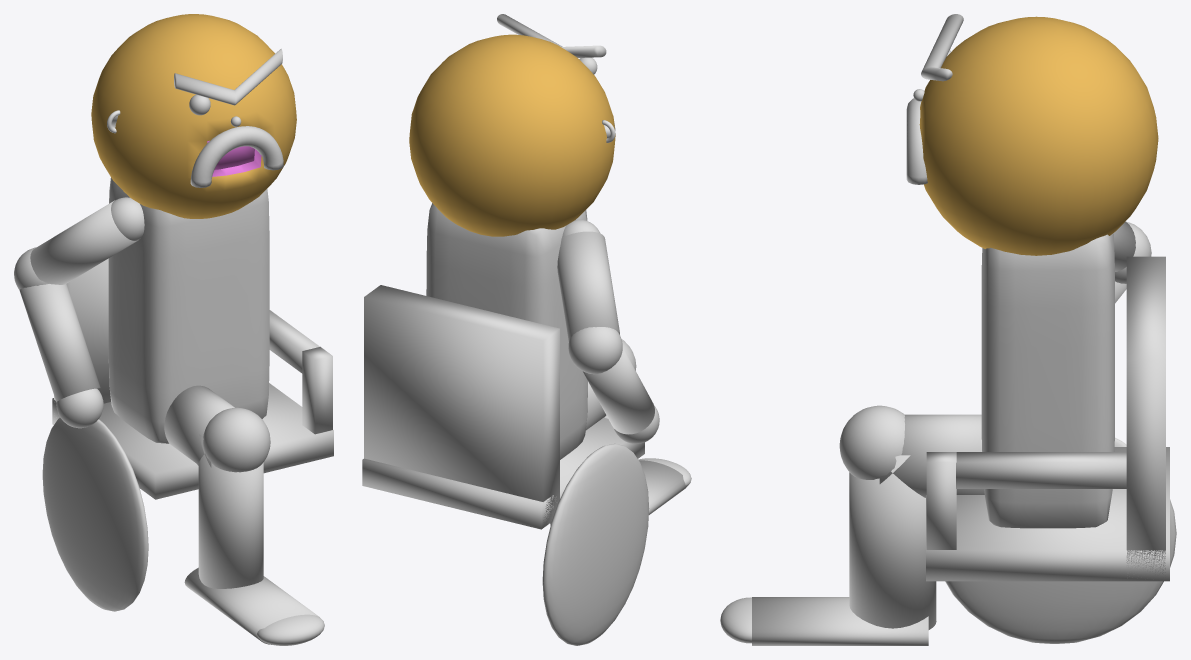
File: GrandpaBobinson.fbx
3 views of the same model, side by side, from view 1: azimuth 30°, elevation 25°; view 2: azimuth 150°, elevation 25°; view 3: azimuth 270°, elevation 25° (orthographic). The views are drawn at different scales.
Visible parts, largest first — view 1: Cube.001, Sphere, Sphere.008, Cylinder.009, Cube.002, Cylinder.007, Cylinder.006, Cylinder.010, Sphere.006, Cube.003, Cylinder.008, Torus (+7 smaller); view 2: Cube.003, Sphere, Sphere.008, Cube.001, Cube.002, Cylinder.006, Cylinder.007, Sphere.004, Cylinder.010, Cylinder.001, Sphere.005, Cylinder.008; view 3: Sphere, Cube.001, Cube.002, Cube.003, Cylinder.009, Sphere.008, Cylinder.010, Cube.004, Cylinder.008, Sphere.006, Cube.005, Torus (+3 smaller).
Boxes of the visible parts, x1=… form: Cube.001: x1=108, y1=177, x2=269, y2=443; Sphere: x1=91, y1=14, x2=296, y2=218; Sphere.008: x1=42, y1=417, x2=148, y2=611; Cylinder.009: x1=198, y1=434, x2=263, y2=588; Cube.002: x1=52, y1=383, x2=333, y2=499; Cylinder.007: x1=19, y1=284, x2=100, y2=402; Cylinder.006: x1=30, y1=200, x2=138, y2=284; Cylinder.010: x1=184, y1=567, x2=319, y2=644; Sphere.006: x1=203, y1=407, x2=270, y2=472; Cube.003: x1=54, y1=258, x2=110, y2=417; Cylinder.008: x1=164, y1=385, x2=234, y2=467; Torus: x1=190, y1=126, x2=283, y2=187; Cube.003: x1=364, y1=285, x2=559, y2=526; Sphere: x1=409, y1=34, x2=615, y2=236; Sphere.008: x1=542, y1=443, x2=649, y2=645; Cube.001: x1=426, y1=203, x2=587, y2=459; Cube.002: x1=362, y1=417, x2=644, y2=529; Cylinder.006: x1=557, y1=231, x2=619, y2=341; Cylinder.007: x1=583, y1=347, x2=654, y2=434; Sphere.004: x1=568, y1=327, x2=622, y2=374; Cylinder.010: x1=550, y1=460, x2=687, y2=525; Cylinder.001: x1=497, y1=14, x2=606, y2=57; Sphere.005: x1=614, y1=405, x2=659, y2=443; Cylinder.008: x1=585, y1=381, x2=606, y2=430; Sphere: x1=919, y1=16, x2=1158, y2=255; Cube.001: x1=981, y1=233, x2=1114, y2=528; Cube.002: x1=926, y1=447, x2=1169, y2=581; Cube.003: x1=1126, y1=256, x2=1165, y2=579; Cylinder.009: x1=849, y1=455, x2=936, y2=629; Sphere.008: x1=945, y1=438, x2=1176, y2=643; Cylinder.010: x1=752, y1=597, x2=928, y2=645; Cube.004: x1=956, y1=452, x2=1126, y2=488; Cylinder.008: x1=879, y1=414, x2=984, y2=497; Sphere.006: x1=839, y1=405, x2=904, y2=479; Cube.005: x1=926, y1=452, x2=956, y2=549; Torus: x1=906, y1=98, x2=927, y2=184.
Bounding box in the file's own units: 263 × 604 × 374.
